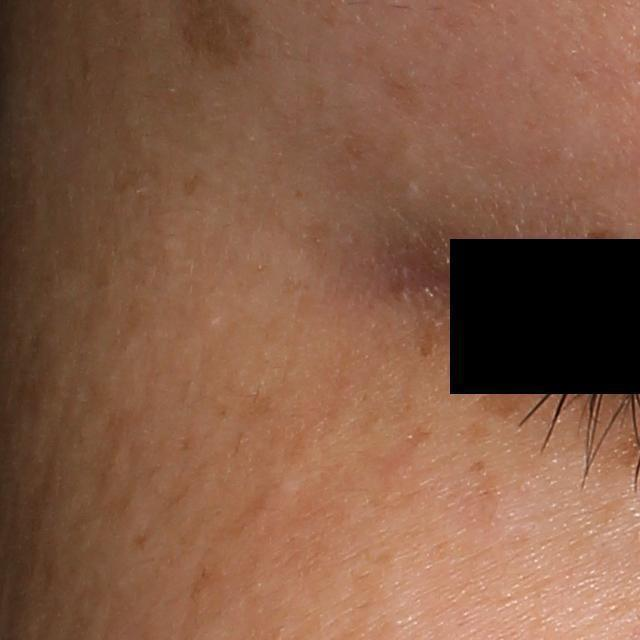melasma: (409, 321, 559, 422), (381, 56, 422, 115), (132, 520, 157, 551), (181, 169, 205, 195), (465, 458, 488, 477)
